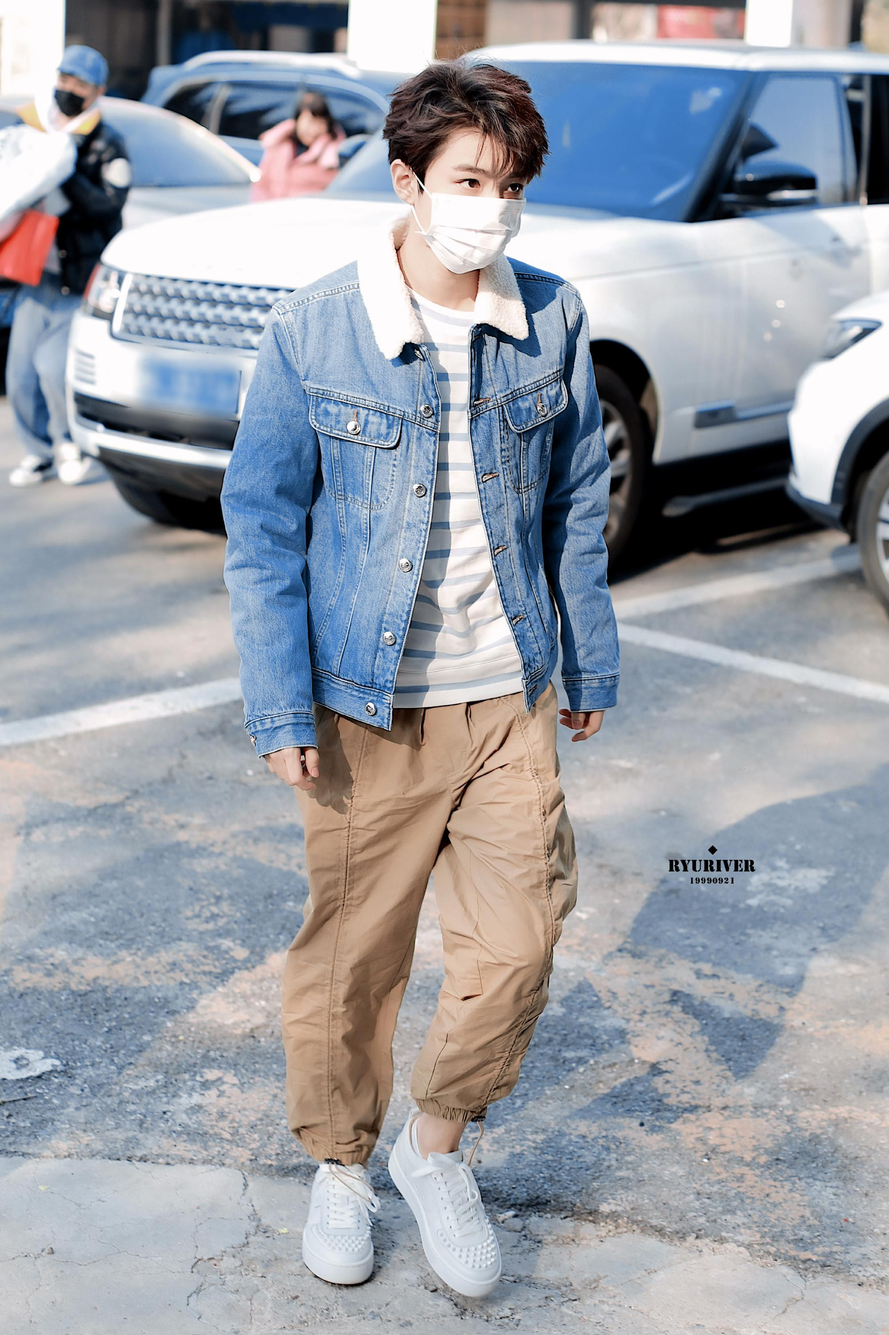NONE: (297, 109, 330, 149)
OK: (427, 161, 528, 277), (55, 73, 93, 118)
